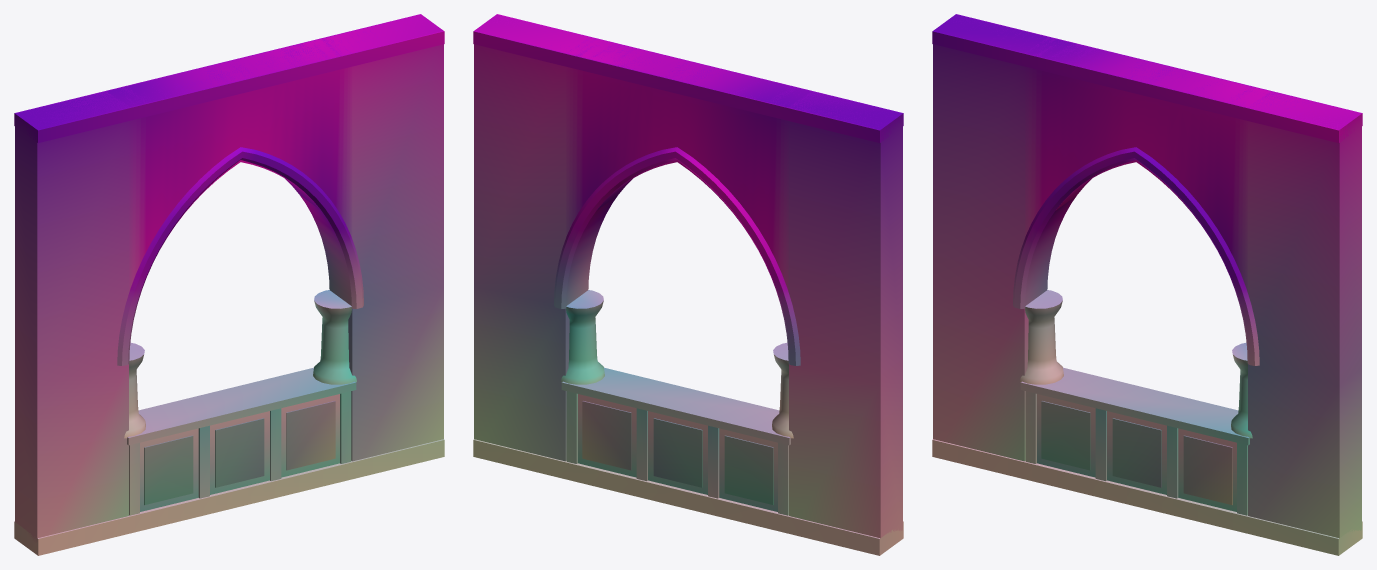
File: arcade_4m.glb
3 views of the same model, side by side, from view 1: azimuth 30°, elevation 25°; view 2: azimuth 150°, elevation 25°; view 3: azimuth 330°, elevation 25° (orthographic).
Parts seen in each view (by area): view 1: arcade_panel, arcade_sill, arcade_panels, arcade_archivolt, arcade_parapet, colonnette.001, colonnette; view 2: arcade_panel, arcade_sill, arcade_panels, arcade_archivolt, arcade_parapet, colonnette.001, colonnette; view 3: arcade_panel, arcade_sill, arcade_panels, arcade_archivolt, arcade_parapet, colonnette, colonnette.001.
Boxes of the visible parts, x1=… form: arcade_panel: x1=15, y1=14, x2=443, y2=542; arcade_sill: x1=14, y1=14, x2=444, y2=555; arcade_panels: x1=144, y1=401, x2=335, y2=505; arcade_archivolt: x1=117, y1=147, x2=363, y2=365; arcade_parapet: x1=140, y1=394, x2=339, y2=511; colonnette.001: x1=313, y1=290, x2=356, y2=384; colonnette: x1=124, y1=342, x2=145, y2=438; arcade_panel: x1=474, y1=14, x2=902, y2=538; arcade_sill: x1=473, y1=14, x2=903, y2=555; arcade_panels: x1=582, y1=401, x2=773, y2=505; arcade_archivolt: x1=554, y1=147, x2=800, y2=365; arcade_parapet: x1=578, y1=394, x2=777, y2=511; colonnette.001: x1=561, y1=290, x2=604, y2=384; colonnette: x1=772, y1=342, x2=793, y2=438; arcade_panel: x1=933, y1=14, x2=1361, y2=538; arcade_sill: x1=932, y1=14, x2=1362, y2=555; arcade_panels: x1=1041, y1=401, x2=1232, y2=505; arcade_archivolt: x1=1013, y1=147, x2=1259, y2=365; arcade_parapet: x1=1037, y1=394, x2=1236, y2=511; colonnette: x1=1020, y1=290, x2=1063, y2=384; colonnette.001: x1=1231, y1=342, x2=1252, y2=438.
Bounding box in the file's own units: 4 × 4 × 0.44.
